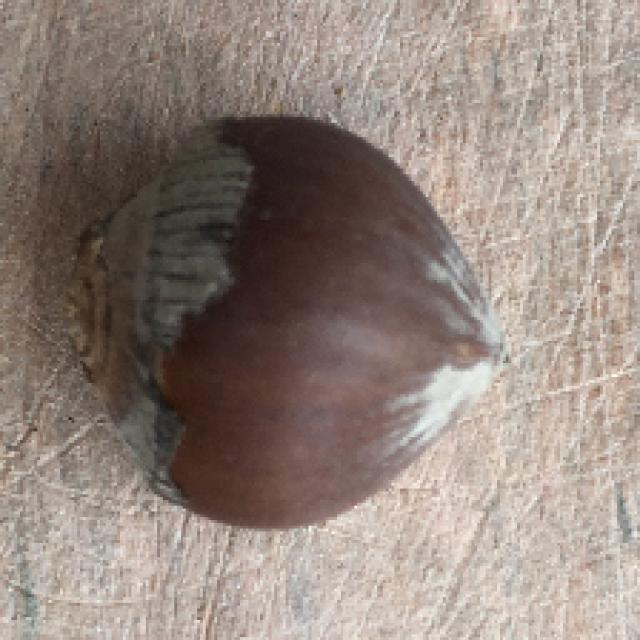damagedHazelnut: (57, 112, 512, 538)
